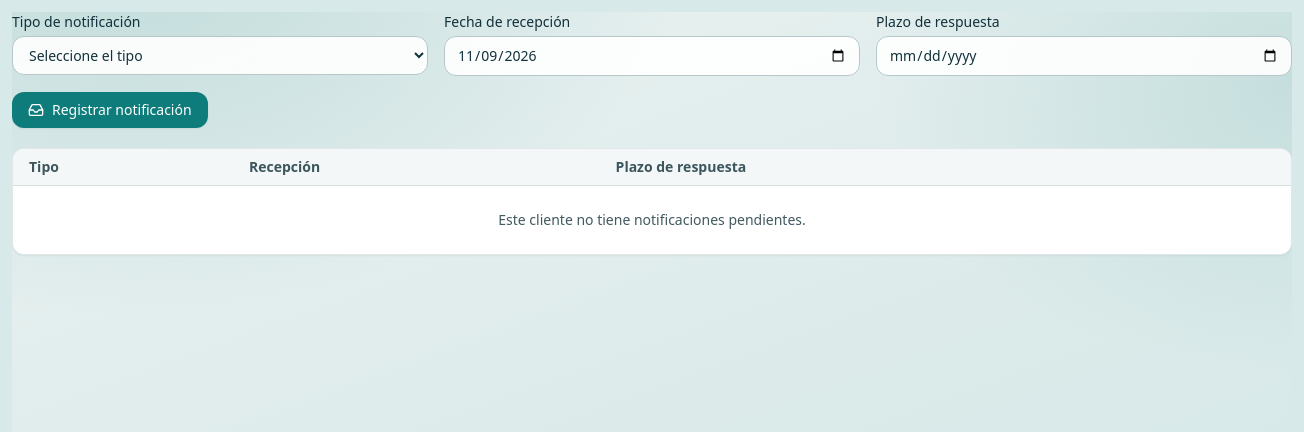
Test: Notificaciones del Buzón SOL en la ficha (HU-18, T65, T66 y T67) › si no se indica el plazo de respuesta, no se guarda (criterio 3)
The width and height of the screenshot is (1304, 432).
Step 1. Select "Esquela" in the dropdown labelled "Tipo de notificación" → (220, 56), box [12,36,428,75]
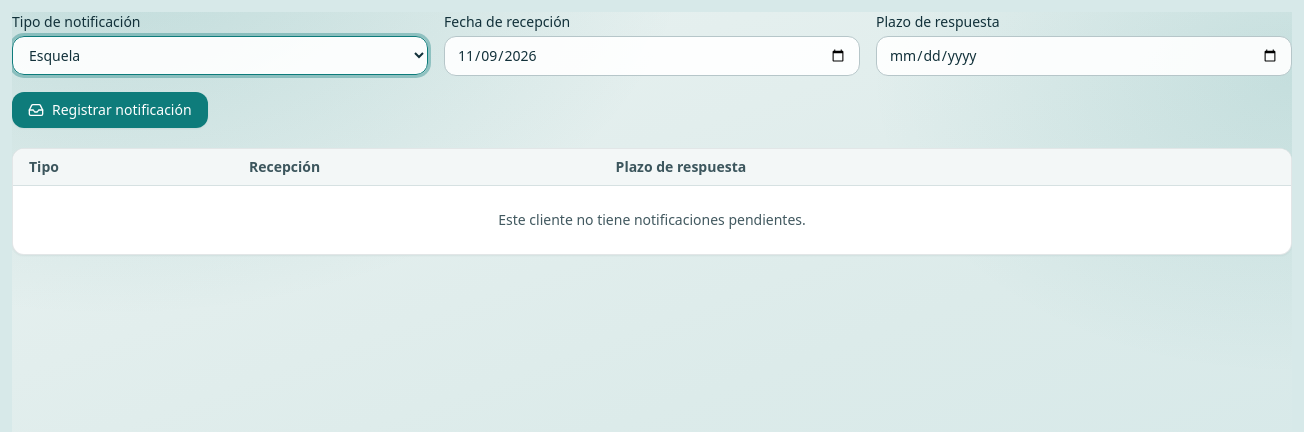
Step 2. Click the button "Registrar notificación" → (110, 110), box [12,92,208,128]
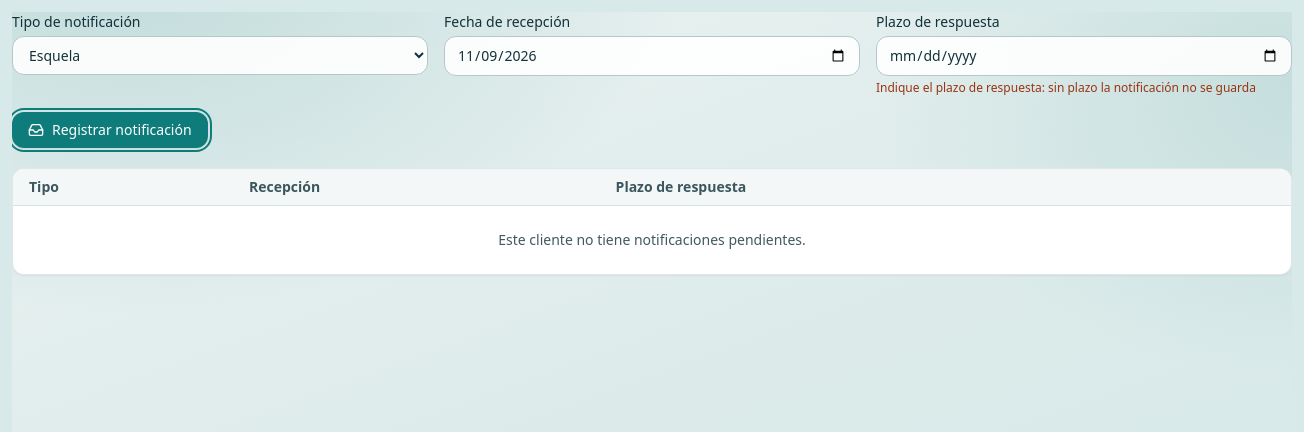
Expected: the message shows "sin plazo la notificación no se guarda", [876,79,1256,96]
